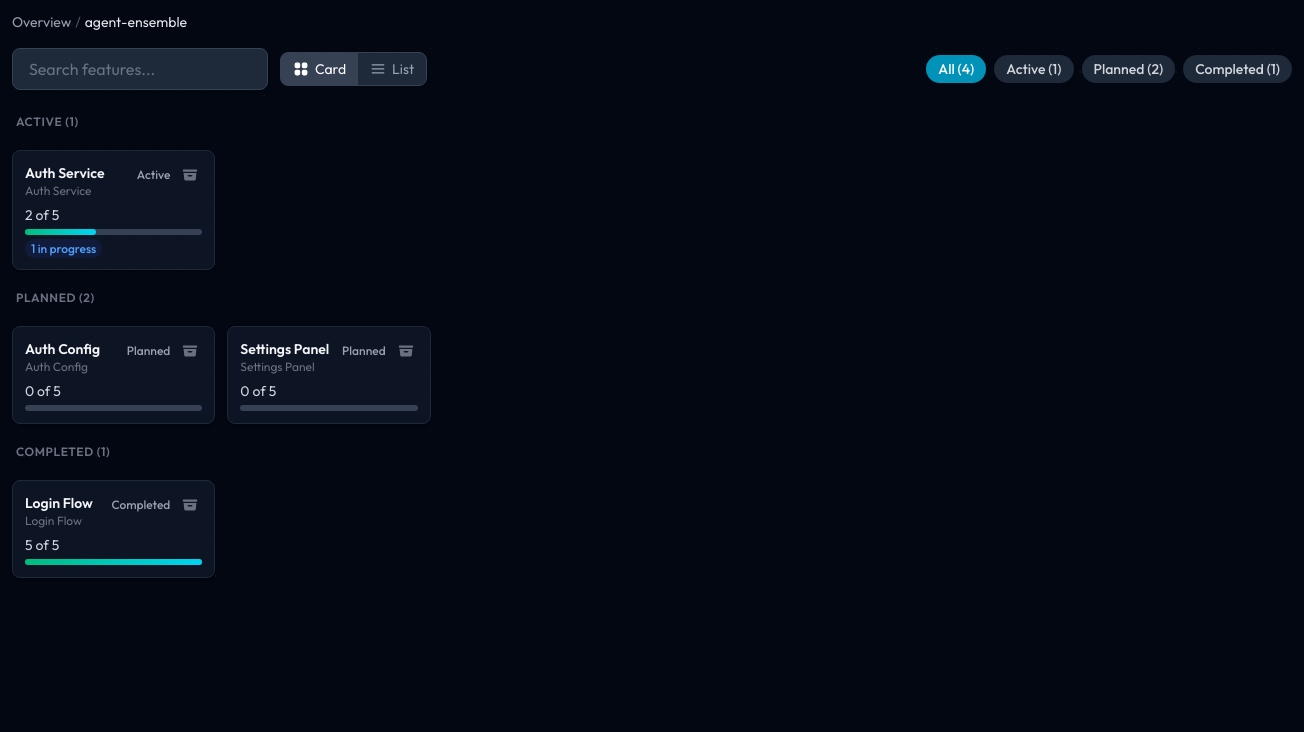
Test case: ProjectFeatureView › status filter controls › composes search and status filter as intersection with updated counts
This screenshot has width=1304, height=732.
Note: Search for "auth"
In the field with placeholder "Search features...": (140, 69) x1=12 y1=48 x2=268 y2=90, type "auth"
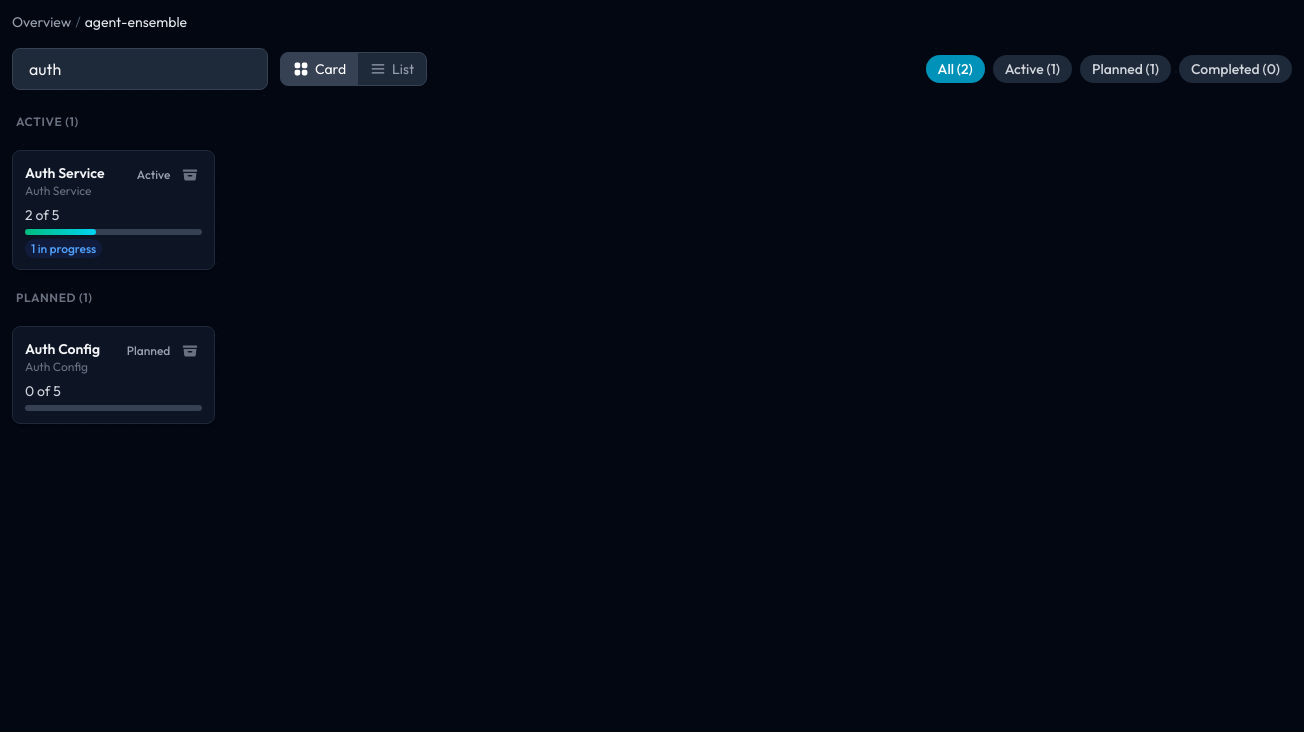
Expected: the button "All (2)" is shown, x1=926 y1=55 x2=985 y2=83
Expected: the button "Planned (1)" is shown
Expected: the button "Completed (0)" is shown, x1=1179 y1=55 x2=1292 y2=83
Note: Click "Planned" - intersection of search + status
Click the button "Planned (1)": (1125, 69) x1=1080 y1=55 x2=1171 y2=83
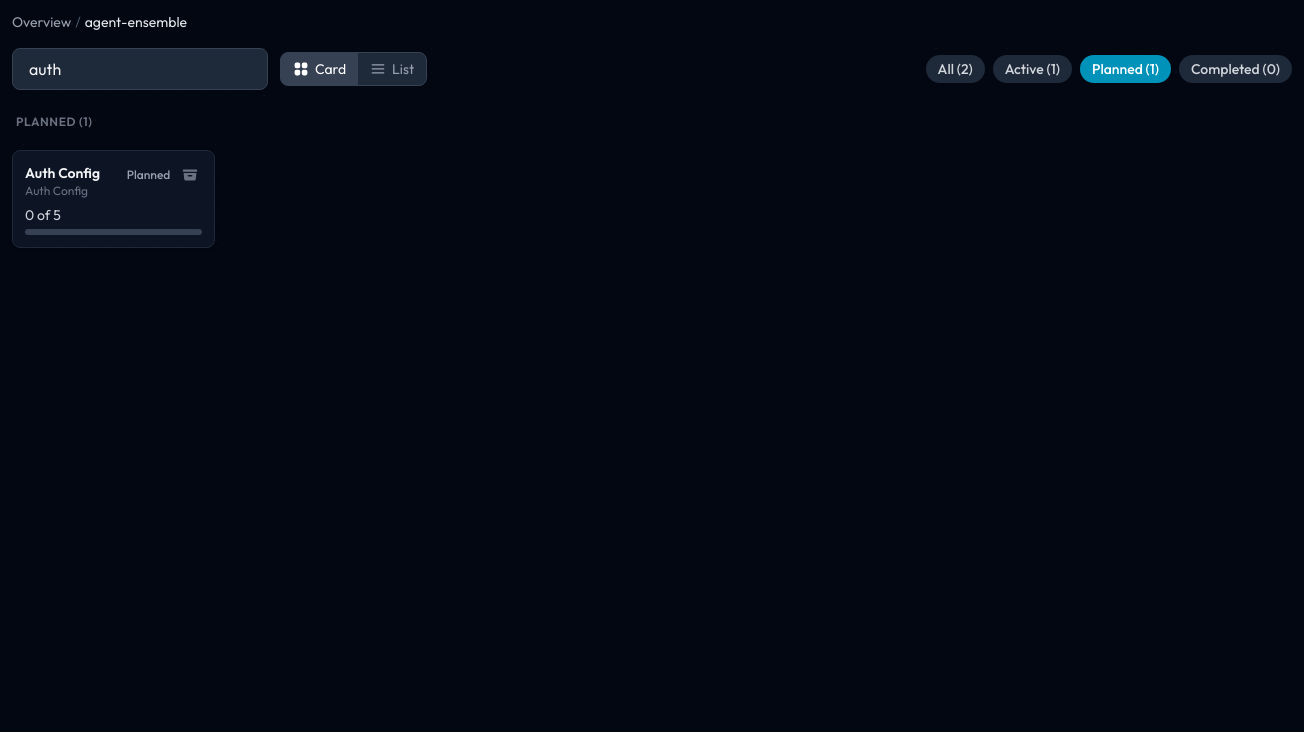
Expected: the heading "Auth Config" is shown, x1=25 y1=164 x2=100 y2=182
Expected: the button "Auth Service" is gone
